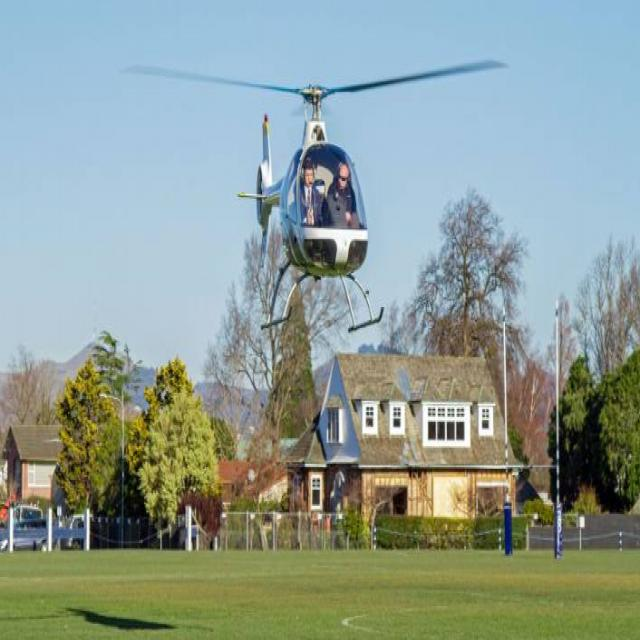helicopter: (151, 70, 468, 334)
